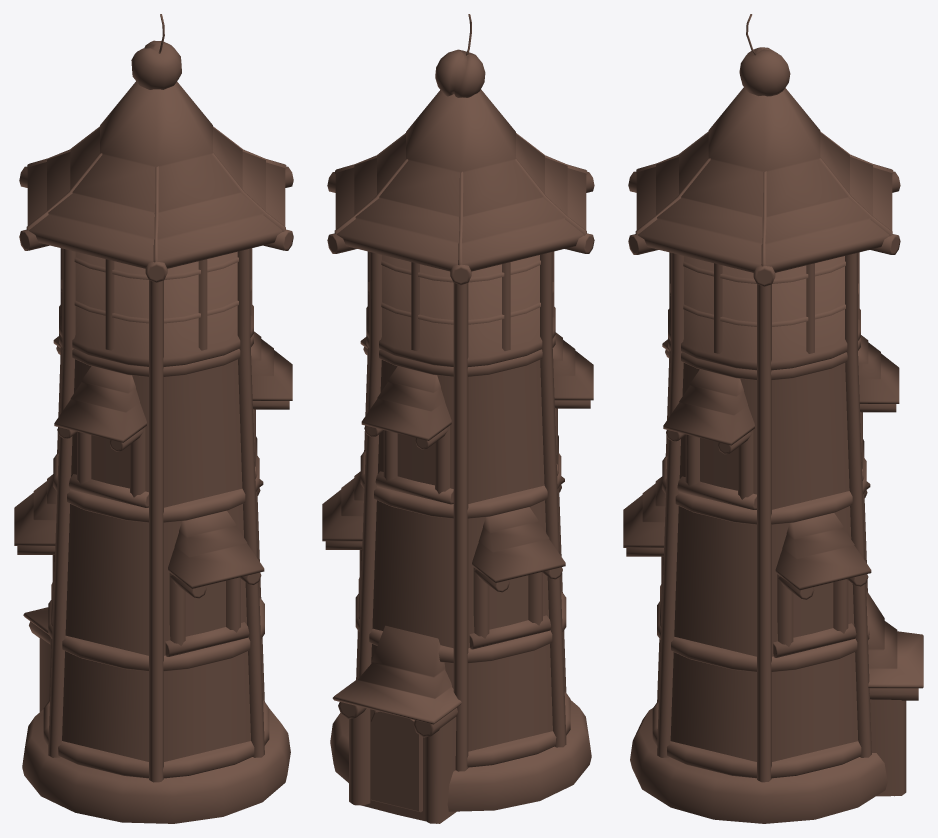
File: Lhouse_marzi.fbx
3 renders of one model, left to right at view 1: azimuth 30°, elevation 25°; view 2: azimuth 150°, elevation 25°; view 3: azimuth 270°, elevation 25°, orthographic. The views are drawn at different scales.
Parts seen in each view (by area): view 1: lighthouse_marzi; view 2: lighthouse_marzi; view 3: lighthouse_marzi.
Part boxes in pixels (box(x1,y1,x2,y2)): lighthouse_marzi: box(14, 14, 293, 823); lighthouse_marzi: box(322, 14, 594, 823); lighthouse_marzi: box(623, 14, 923, 823).
Size of the model in its own units: 1795 by 5010 by 1788.
